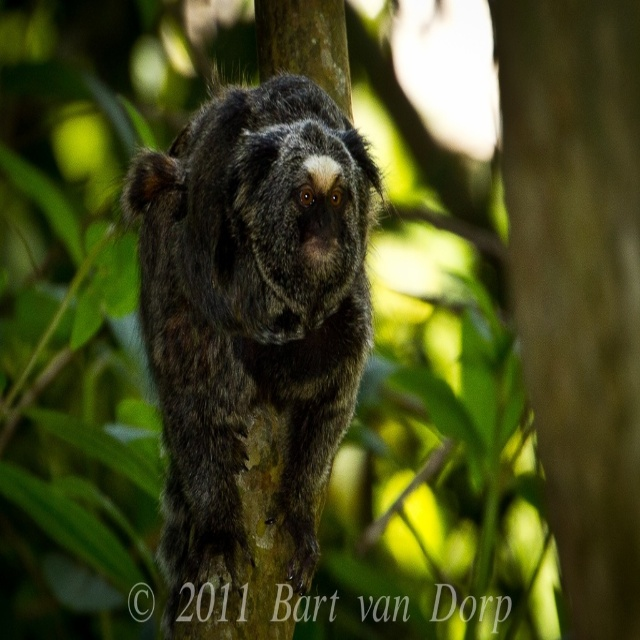Monkey: (111, 65, 378, 640)
